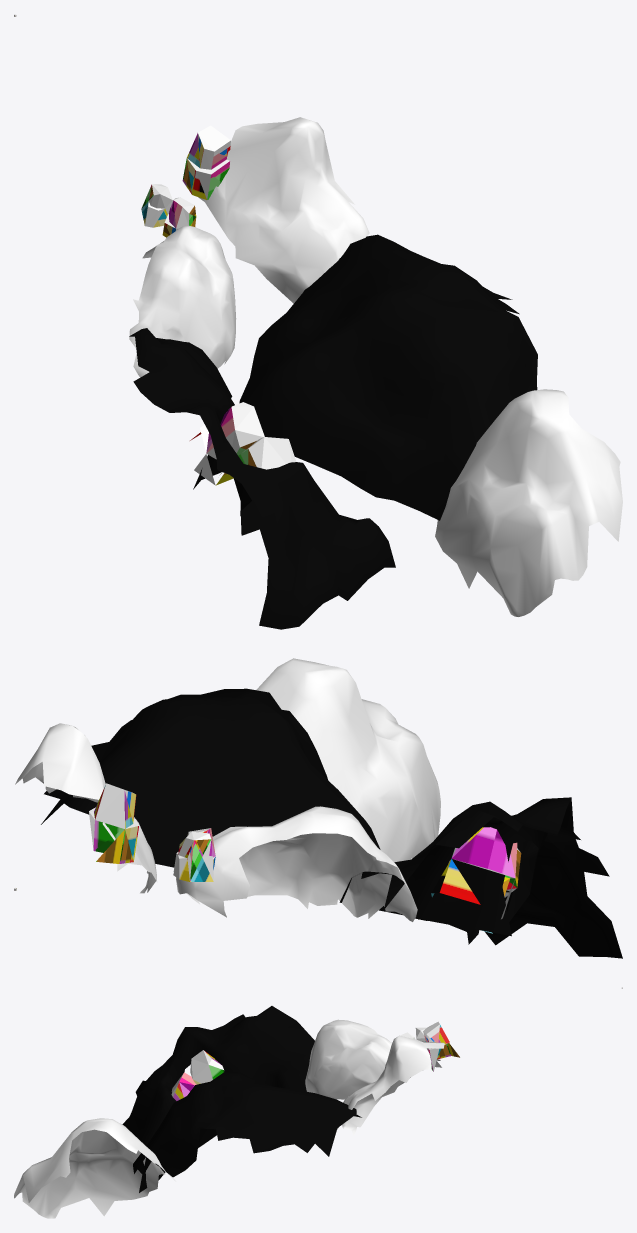
3 renders of one model, top to bottom at view 1: azimuth 30°, elevation 25°; view 2: azimuth 150°, elevation 25°; view 3: azimuth 270°, elevation 25°, orthographic. The views are drawn at different scales.
Parts seen in each view (by area): view 1: part2; view 2: part2; view 3: part2.
Part boxes in pixels (x1,y1,x2,y2): part2: (14, 14, 622, 629); part2: (14, 658, 622, 958); part2: (14, 987, 622, 1218).
Bounding box in the file's own units: 240 × 184 × 486.
Materials: 2 (2 with a texture image).
